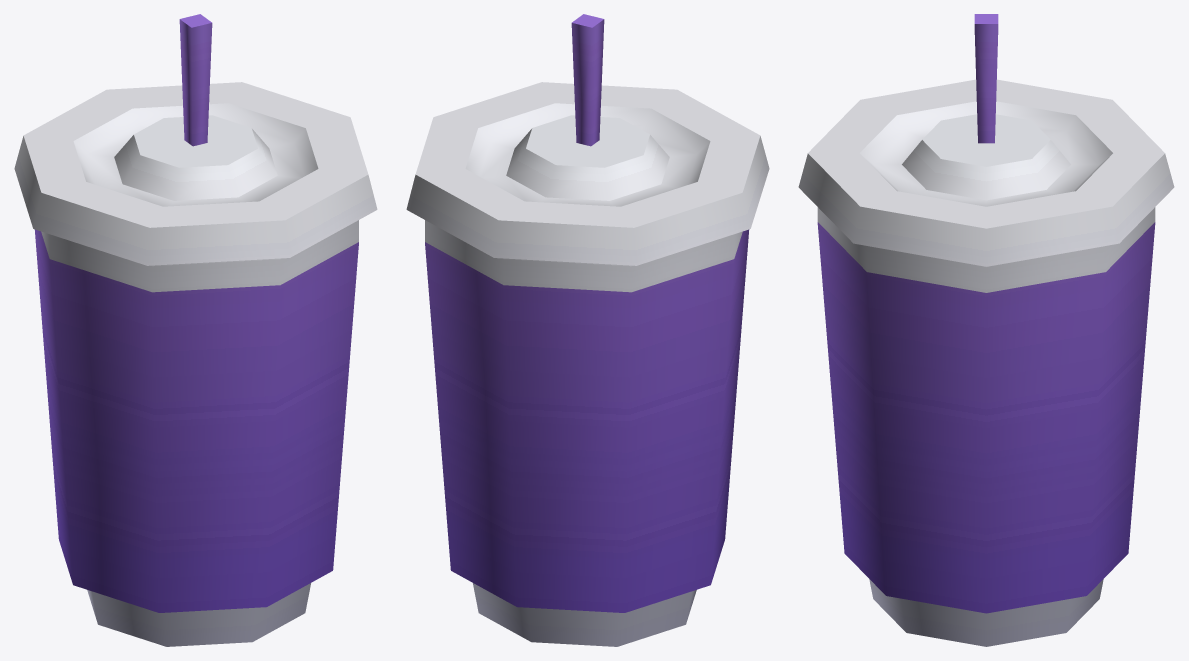
File: soda.glb
3 views of the same model, side by side, from view 1: azimuth 30°, elevation 25°; view 2: azimuth 150°, elevation 25°; view 3: azimuth 270°, elevation 25° (orthographic).
Parts seen in each view (by area): view 1: soda; view 2: soda; view 3: soda.
Boxes of the visible parts, x1,y1,x2,y2 form: soda: [14, 14, 377, 646]; soda: [406, 14, 769, 646]; soda: [798, 14, 1174, 646].
Bounding box in the file's own units: 0.2541 × 0.4324 × 0.2541.
Materials: 1 (1 with a texture image).
